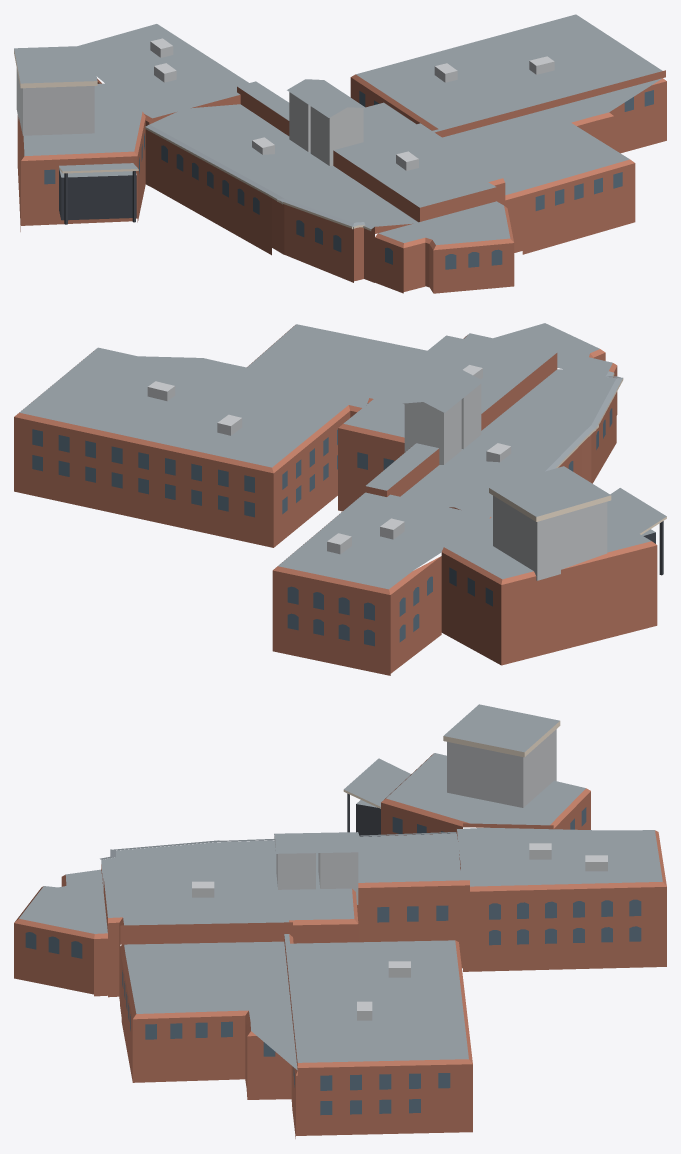
The model's file is music-factory-mill.glb.
3 renders of one model, top to bottom at view 1: azimuth 30°, elevation 25°; view 2: azimuth 150°, elevation 25°; view 3: azimuth 270°, elevation 25°, orthographic. The views are drawn at different scales.
Parts seen in each view (by area): view 1: AvidXchange Music Factory mill; view 2: AvidXchange Music Factory mill; view 3: AvidXchange Music Factory mill.
Part boxes in pixels (box(x1,y1,x2,y2)): AvidXchange Music Factory mill: box(14, 14, 666, 293); AvidXchange Music Factory mill: box(14, 323, 666, 675); AvidXchange Music Factory mill: box(14, 704, 666, 1138).
Size of the model in its own units: 103 by 22.72 by 92.9.
